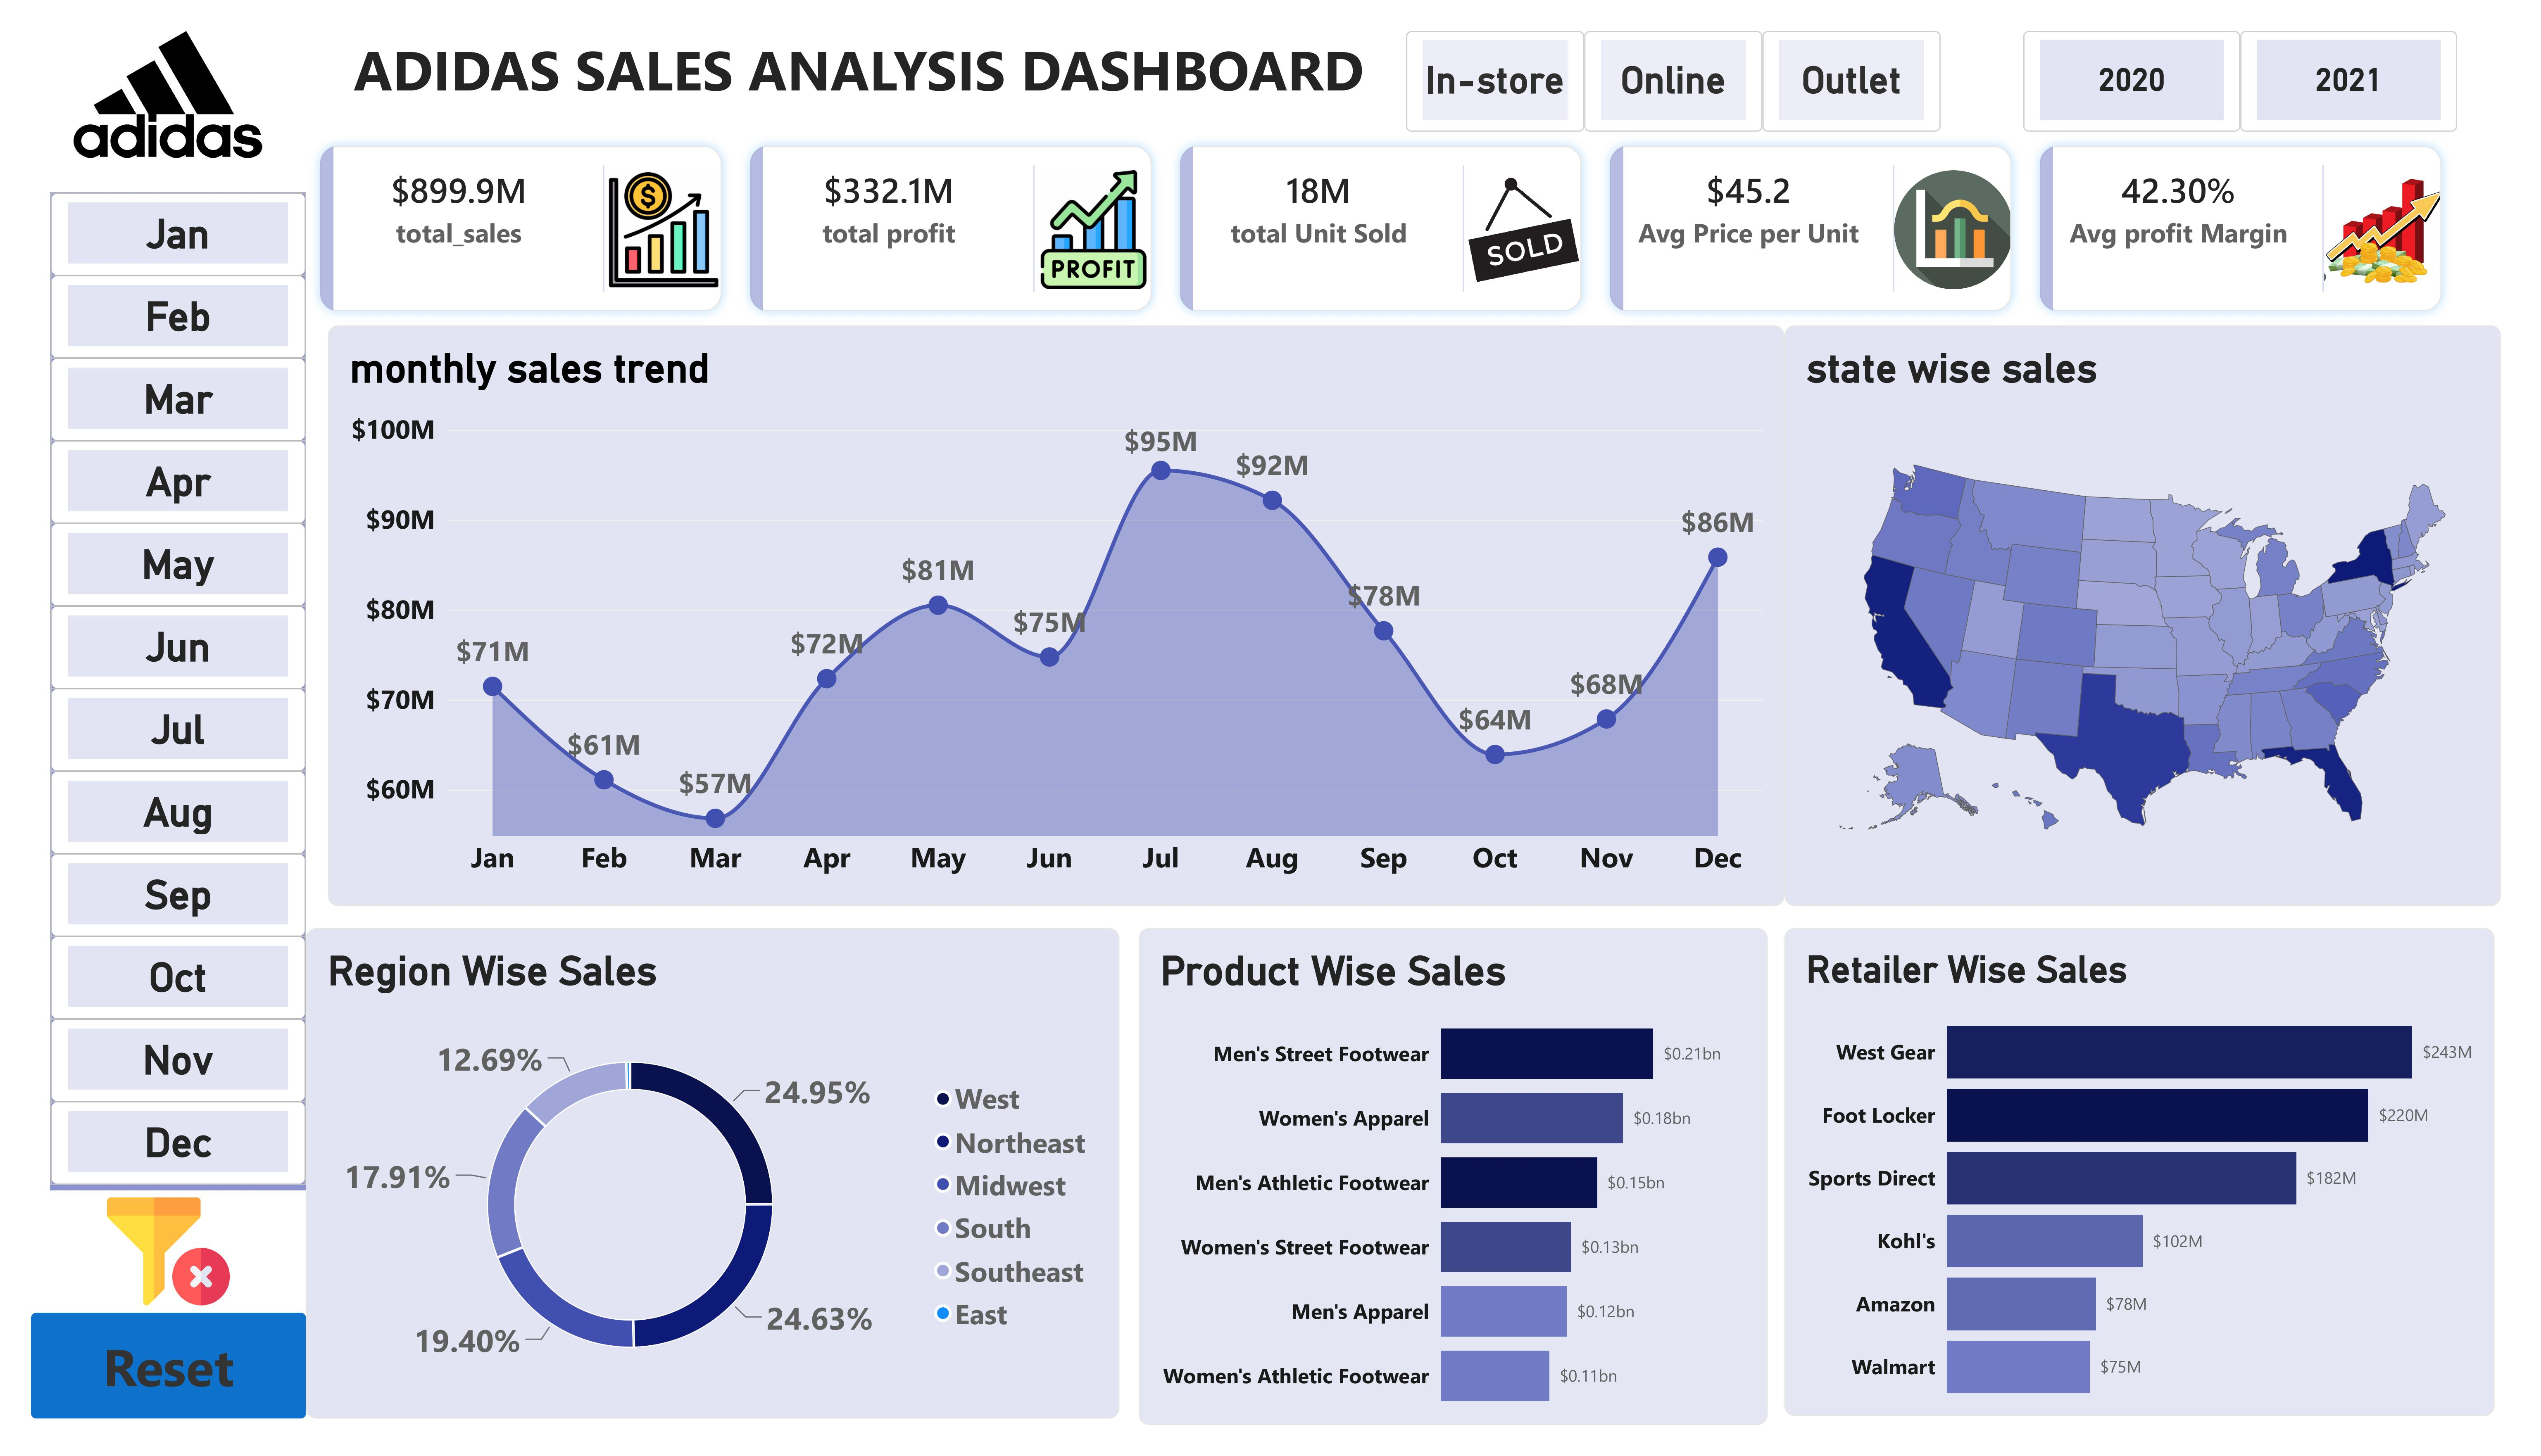

The dashboard page shown, as its layout file describes it:
{"tool":"powerbi","page":{"name":"adidas sales analysis dashboard","canvas":[1920,1080],"ordinal":0},"visuals":[{"type":"cardVisual","fields":{"Data":["Data Sales Adidas.total_sales","Sum(Data Sales Adidas.Operating Profit)","Sum(Data Sales Adidas.Units Sold)","Avg(Data Sales Adidas.Price per Unit)","Avg(Data Sales Adidas.Operating Margin)"]},"box":[212.5,77.5,1667.5,150],"z":0},{"type":"image","box":[0,0,250,102.5],"z":1000},{"type":"textbox","box":[0,368.5,250,150],"z":2000},{"type":"textbox","box":[250,0,1182.5,97.5],"z":3000},{"type":"lineChart","title":"monthly sales trend","fields":{"Category":["Data Sales Adidas.months_name"],"Y":["Data Sales Adidas.total_sales"]},"box":[230,227.5,1127.5,450],"z":3002},{"type":"shapeMap","title":"state wise sales","fields":{"Category":["Data Sales Adidas.State"],"Value":["Data Sales Adidas.total_sales"]},"box":[1357.5,227.5,555,450],"z":3003},{"type":"donutChart","title":"Region Wise Sales","fields":{"Category":["Data Sales Adidas.Region"],"Y":["CountNonNull(Data Sales Adidas.Region)"]},"box":[212.5,695,630,380],"z":3004},{"type":"clusteredBarChart","title":"Product Wise Sales","fields":{"Category":["Data Sales Adidas.Product"],"Y":["Data Sales Adidas.total_sales"]},"box":[857.5,695,487.5,385],"z":3005},{"type":"barChart","title":"Retailer Wise Sales","fields":{"Category":["Data Sales Adidas.Retailer"],"Y":["Data Sales Adidas.total_sales"]},"box":[1357.5,695,550,377.5],"z":3006},{"type":"advancedSlicerVisual","fields":{"Values":["Data Sales Adidas.months_name"]},"box":[15,125,197.5,772.5],"z":3007},{"type":"advancedSlicerVisual","fields":{"Values":["Data Sales Adidas.Sales Method"]},"box":[1065,0,415,77.5],"z":3008},{"type":"advancedSlicerVisual","fields":{"Values":["Data Sales Adidas.Invoice Date.Variation.Date Hierarchy.Year"]},"box":[1542.5,0,337.5,77.5],"z":3009},{"type":"image","box":[0,897.5,212.5,95],"z":3010},{"type":"actionButton","box":[0,992.5,212.5,82.5],"z":3012}]}

Visuals, with their boxes on the page's 1920x1080 design canvas (x1, y1, x2, y2). These are canvas units, not pixel positions in the 2541x1456 screenshot, which may show the page scaled, cropped or inside an application window:
cardVisual - Data Sales Adidas.total_sales x Sum(Data Sales Adidas.Operating Profit): pyautogui.locateOnScreen(212, 78, 1880, 228)
image: pyautogui.locateOnScreen(0, 0, 250, 102)
textbox: pyautogui.locateOnScreen(0, 368, 250, 518)
textbox: pyautogui.locateOnScreen(250, 0, 1432, 98)
"monthly sales trend" lineChart: pyautogui.locateOnScreen(230, 228, 1358, 678)
"state wise sales" shapeMap: pyautogui.locateOnScreen(1358, 228, 1912, 678)
"Region Wise Sales" donutChart: pyautogui.locateOnScreen(212, 695, 842, 1075)
"Product Wise Sales" clusteredBarChart: pyautogui.locateOnScreen(858, 695, 1345, 1080)
"Retailer Wise Sales" barChart: pyautogui.locateOnScreen(1358, 695, 1908, 1072)
advancedSlicerVisual - Data Sales Adidas.months_name: pyautogui.locateOnScreen(15, 125, 212, 898)
advancedSlicerVisual - Data Sales Adidas.Sales Method: pyautogui.locateOnScreen(1065, 0, 1480, 78)
advancedSlicerVisual - Data Sales Adidas.Invoice Date.Variation.Date Hierarchy.Year: pyautogui.locateOnScreen(1542, 0, 1880, 78)
image: pyautogui.locateOnScreen(0, 898, 212, 992)
actionButton: pyautogui.locateOnScreen(0, 992, 212, 1075)
